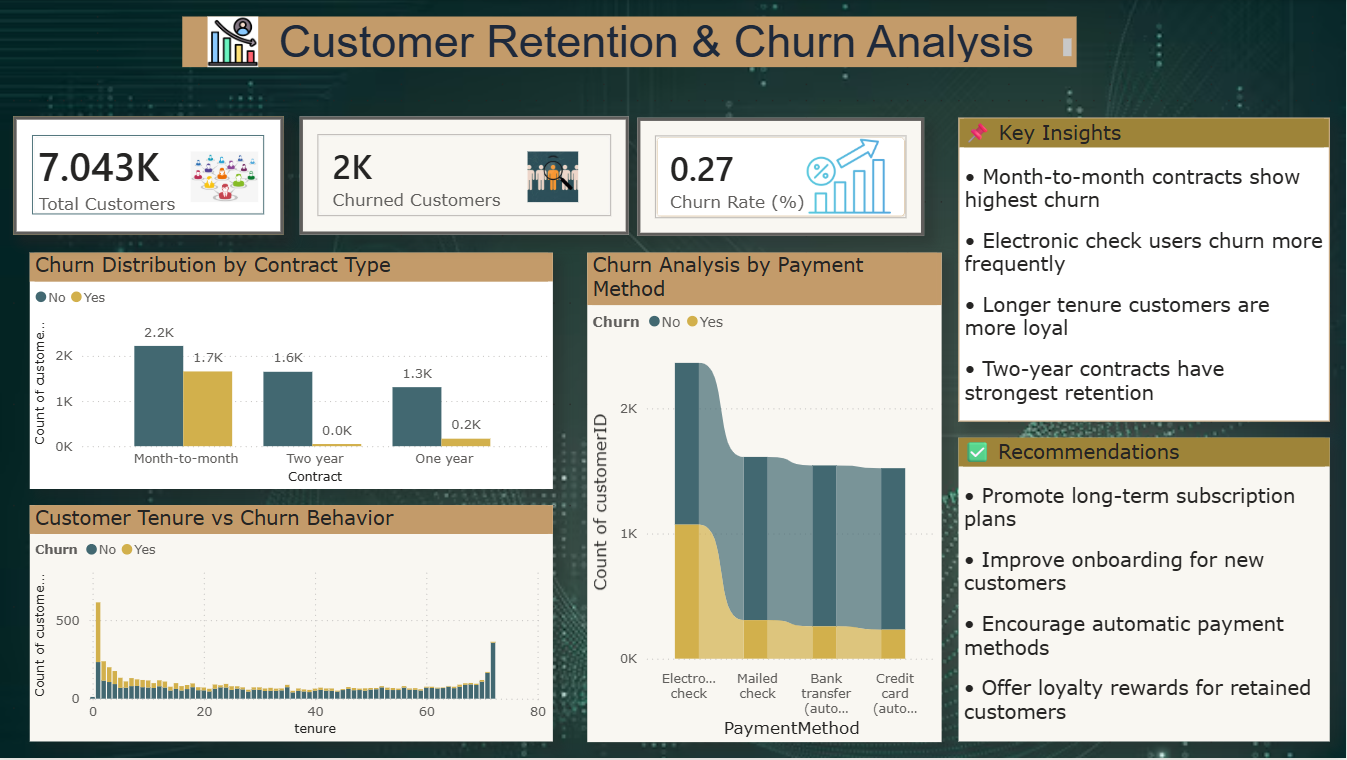

The page's visual inventory and layout, read from the dashboard file:
{"tool":"powerbi","page":{"name":"Page 1","canvas":[1280,720],"ordinal":0},"visuals":[{"type":"clusteredColumnChart","title":"Churn Distribution by Contract Type","fields":{"Category":["WA_Fn-UseC_-Telco-Customer-Churn.Contract"],"Y":["CountNonNull(WA_Fn-UseC_-Telco-Customer-Churn.customerID)"],"Series":["WA_Fn-UseC_-Telco-Customer-Churn.Churn"]},"box":[32,240,496,224],"z":0},{"type":"cardVisual","fields":{"Data":["select","CountNonNull(WA_Fn-UseC_-Telco-Customer-Churn.customerID)"]},"box":[16,112,256,112],"z":1000},{"type":"cardVisual","fields":{"Data":["WA_Fn-UseC_-Telco-Customer-Churn.Churned_Customers"]},"box":[288,112,312,112],"z":2000},{"type":"cardVisual","fields":{"Data":["WA_Fn-UseC_-Telco-Customer-Churn.Churn_Rate"]},"box":[608,112,272,112],"z":3000},{"type":"ribbonChart","title":"Churn Analysis by Payment Method","fields":{"Y":["CountNonNull(WA_Fn-UseC_-Telco-Customer-Churn.customerID)"],"Category":["WA_Fn-UseC_-Telco-Customer-Churn.PaymentMethod"],"Series":["WA_Fn-UseC_-Telco-Customer-Churn.Churn"]},"box":[560,240,336,464],"z":4000},{"type":"columnChart","title":"Customer Tenure vs Churn Behavior","fields":{"Category":["WA_Fn-UseC_-Telco-Customer-Churn.tenure"],"Y":["CountNonNull(WA_Fn-UseC_-Telco-Customer-Churn.customerID)"],"Series":["WA_Fn-UseC_-Telco-Customer-Churn.Churn"]},"box":[32,480,496,224],"z":5000},{"type":"textbox","box":[176,16,848,48],"z":6000},{"type":"image","box":[144,144,144,48],"z":7000},{"type":"image","box":[416,144,224,48],"z":8000},{"type":"image","box":[656,128,304,80],"z":9000},{"type":"image","box":[112,16,224,48],"z":10000},{"type":"textbox","title":"📌 Key Insights","box":[912,112,352,288],"z":11000},{"type":"textbox","title":"✅ Recommendations","box":[912,416,352,288],"z":12000},{"type":"actionButton","box":[608,112,272,112],"z":13000},{"type":"actionButton","box":[16,112,256,112],"z":14000},{"type":"actionButton","box":[288,112,312,112],"z":15000}]}

Visuals, with their boxes in screenshot pixels (x1, y1, x2, y2), scaled from the page's 1280x720 canvas onto the 1347x760 screenshot:
"Churn Distribution by Contract Type" clusteredColumnChart: Rect(34, 253, 556, 490)
cardVisual - select x CountNonNull(WA_Fn-UseC_-Telco-Customer-Churn.customerID): Rect(17, 118, 286, 236)
cardVisual - WA_Fn-UseC_-Telco-Customer-Churn.Churned_Customers: Rect(303, 118, 631, 236)
cardVisual - WA_Fn-UseC_-Telco-Customer-Churn.Churn_Rate: Rect(640, 118, 926, 236)
"Churn Analysis by Payment Method" ribbonChart: Rect(589, 253, 943, 743)
"Customer Tenure vs Churn Behavior" columnChart: Rect(34, 507, 556, 743)
textbox: Rect(185, 17, 1078, 68)
image: Rect(152, 152, 303, 203)
image: Rect(438, 152, 674, 203)
image: Rect(690, 135, 1010, 220)
image: Rect(118, 17, 354, 68)
"📌 Key Insights" textbox: Rect(960, 118, 1330, 422)
"✅ Recommendations" textbox: Rect(960, 439, 1330, 743)
actionButton: Rect(640, 118, 926, 236)
actionButton: Rect(17, 118, 286, 236)
actionButton: Rect(303, 118, 631, 236)
